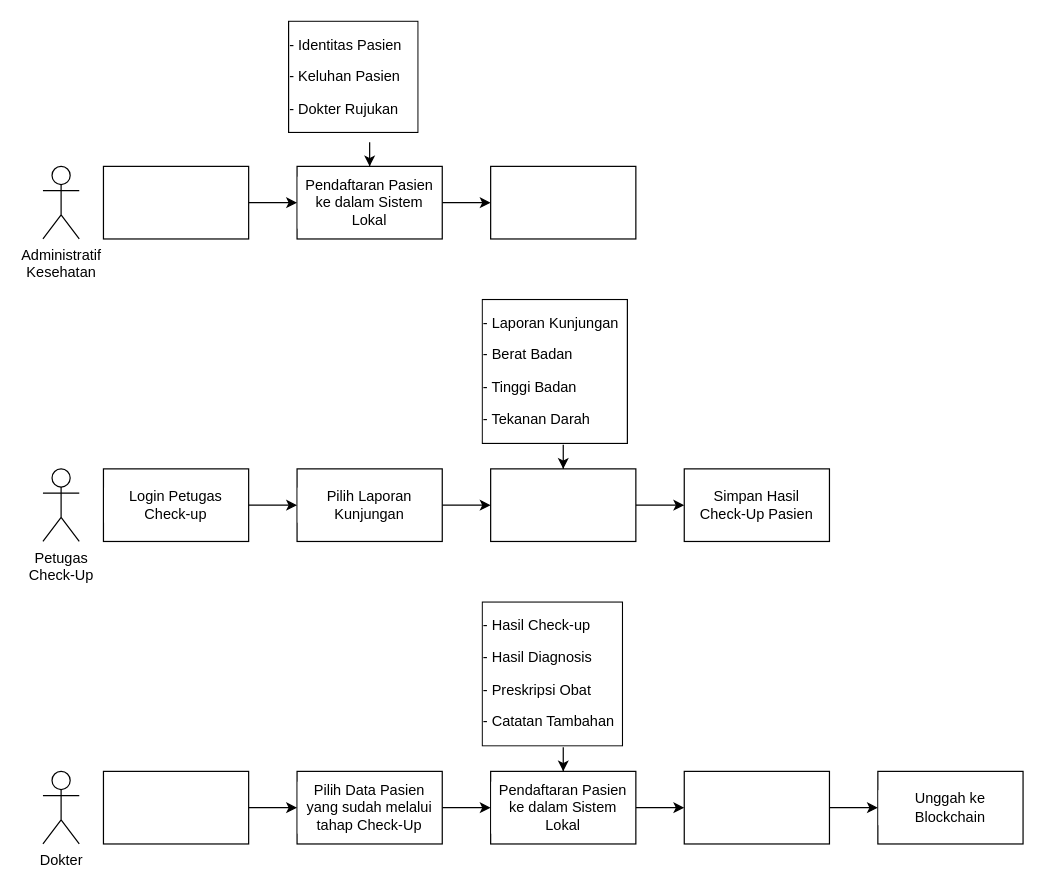
Image size: 1044x889. Some labels were removed from this diagram. The centre of each missing label's shape, as x and y in pixels:
"Login Dokter" goes at (175,807).
"Login Petugas Administratif" goes at (175,202).
"Perekaman Data Check-Up Pasien" goes at (562,504).
"Simpan Laporan Kunjungan" goes at (562,202).
"Simpan Rekam Medis" goes at (756,807).
